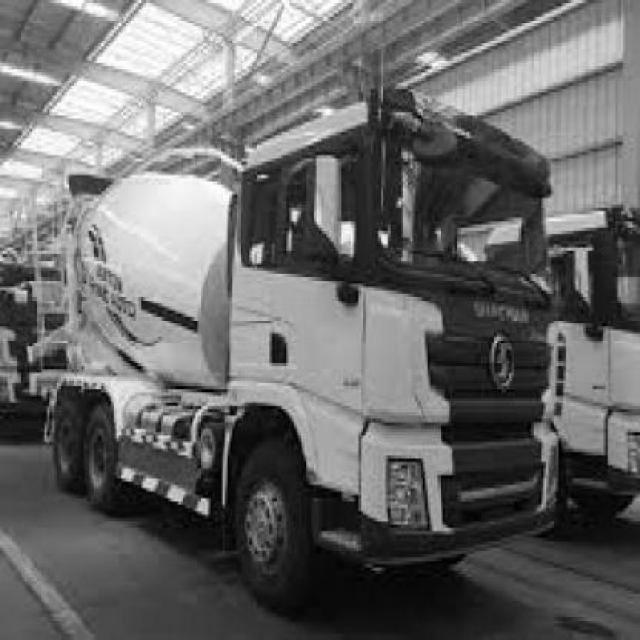Concrete Mixer: (35, 65, 561, 617)
